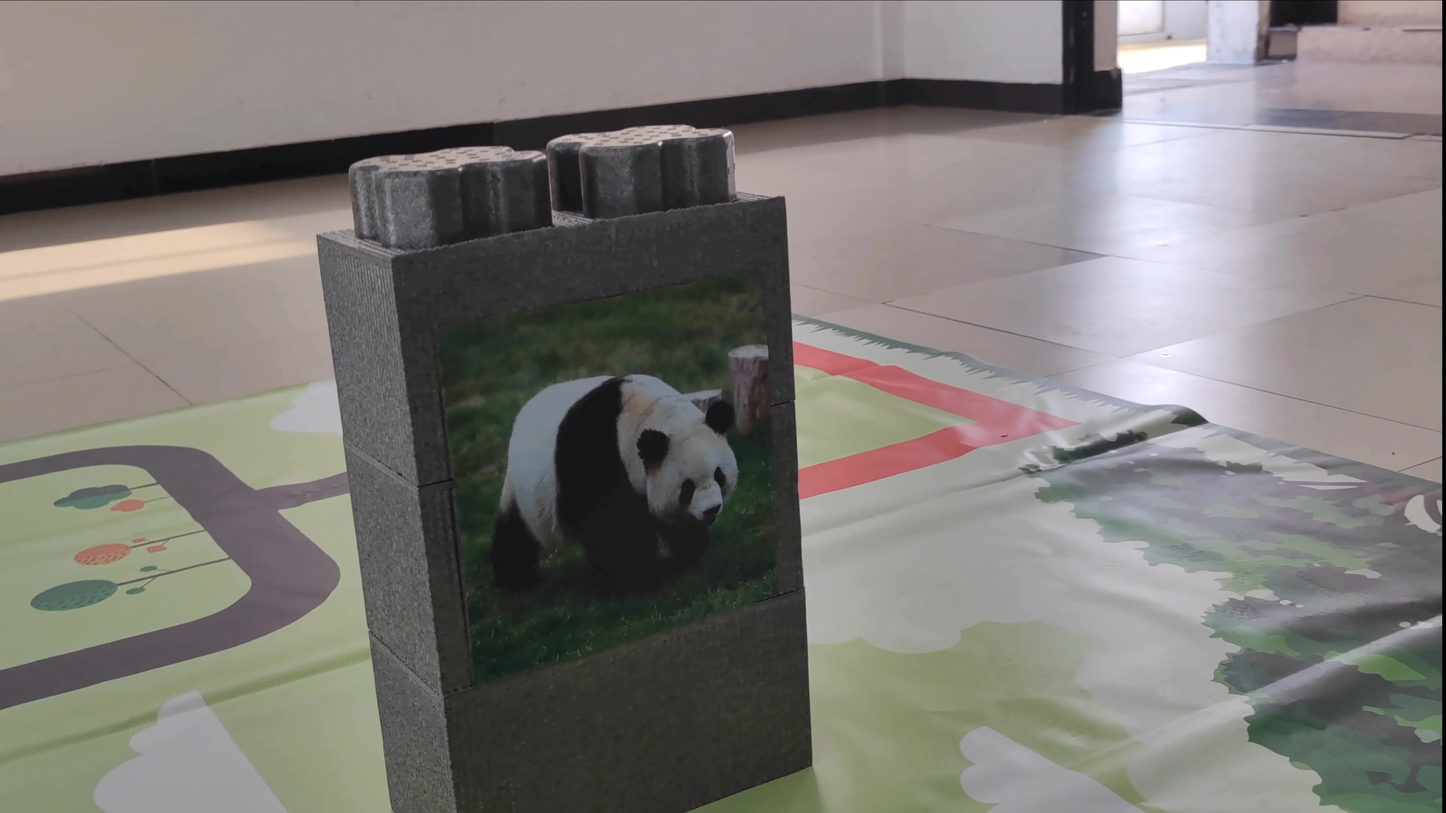panda: (475, 362, 763, 624)
